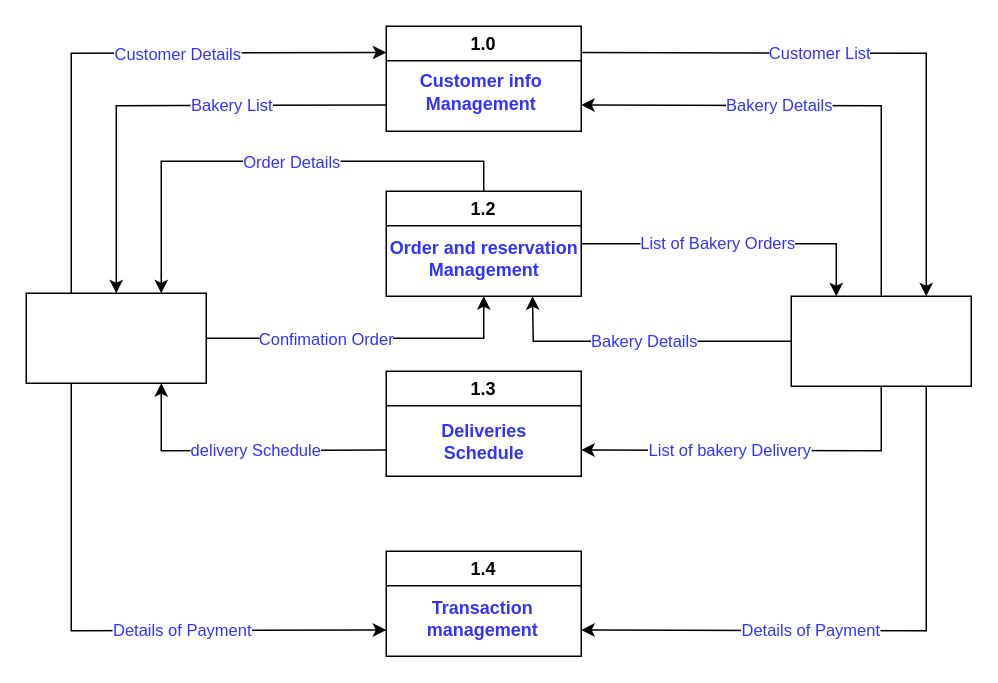
This 998x683 diagram has some shape labels left out. Here are the shapes that lost their labels. From the top down, the centre of each, then its label:
point (115, 337): Customers
point (880, 340): Greggs Shop
